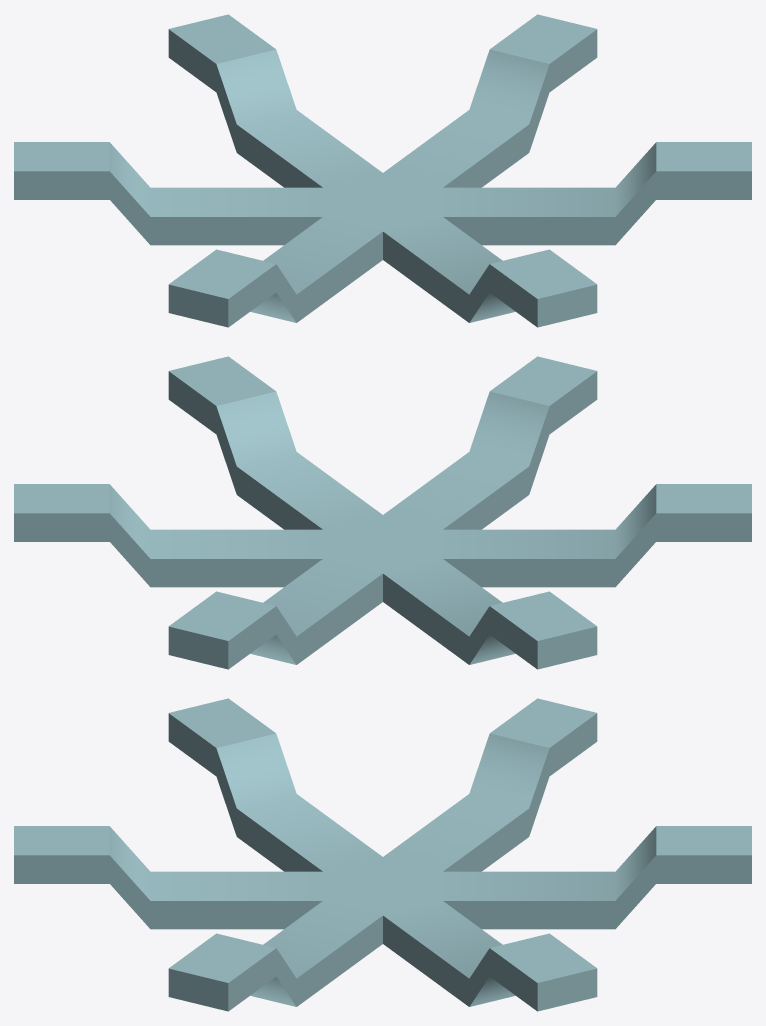
3 views of the same model, one above another, from view 1: azimuth 30°, elevation 25°; view 2: azimuth 150°, elevation 25°; view 3: azimuth 270°, elevation 25° (orthographic).
Parts seen in each view (by area): view 1: IV_Base; view 2: IV_Base; view 3: IV_Base.
Part boxes in pixels (bbox=[...]): IV_Base: bbox=[14, 14, 751, 327]; IV_Base: bbox=[14, 356, 751, 669]; IV_Base: bbox=[14, 698, 751, 1011].
Size of the model in its own units: 6.09 by 0.7375 by 6.67.
